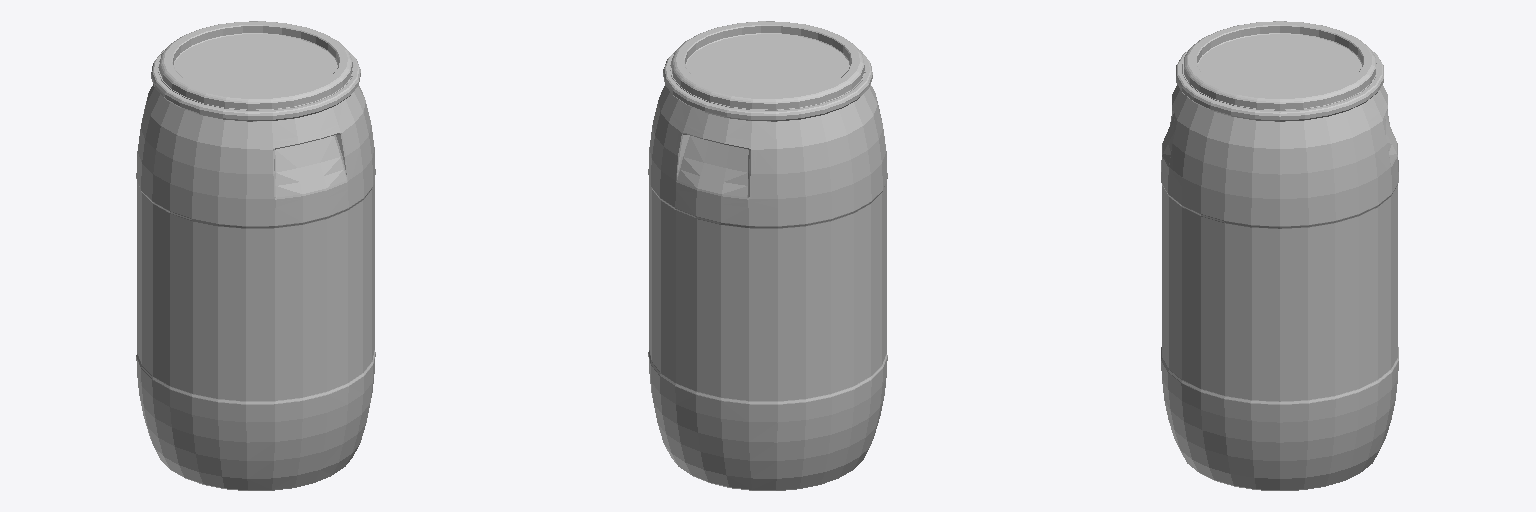
File: barrel.obj
3 views of the same model, side by side, from view 1: azimuth 30°, elevation 25°; view 2: azimuth 150°, elevation 25°; view 3: azimuth 270°, elevation 25° (orthographic).
Visible parts, largest first — view 1: Barrel_02_Mesh; view 2: Barrel_02_Mesh; view 3: Barrel_02_Mesh.
Boxes of the visible parts, x1,y1,x2,y2 form: Barrel_02_Mesh: [136, 21, 375, 490]; Barrel_02_Mesh: [648, 21, 887, 490]; Barrel_02_Mesh: [1161, 21, 1398, 490].
Bounding box in the file's own units: 4.88 × 8.8 × 4.85.